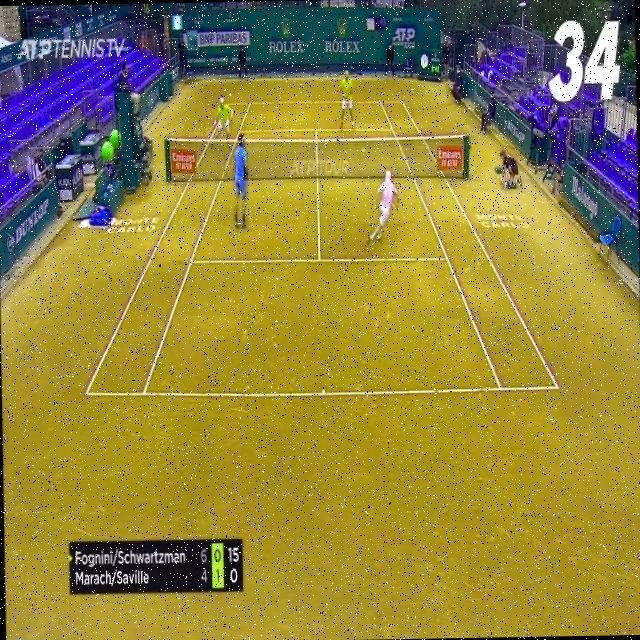court: (79, 96, 558, 400)
net: (163, 132, 470, 186)
player: (364, 169, 400, 247), (232, 133, 250, 230)
